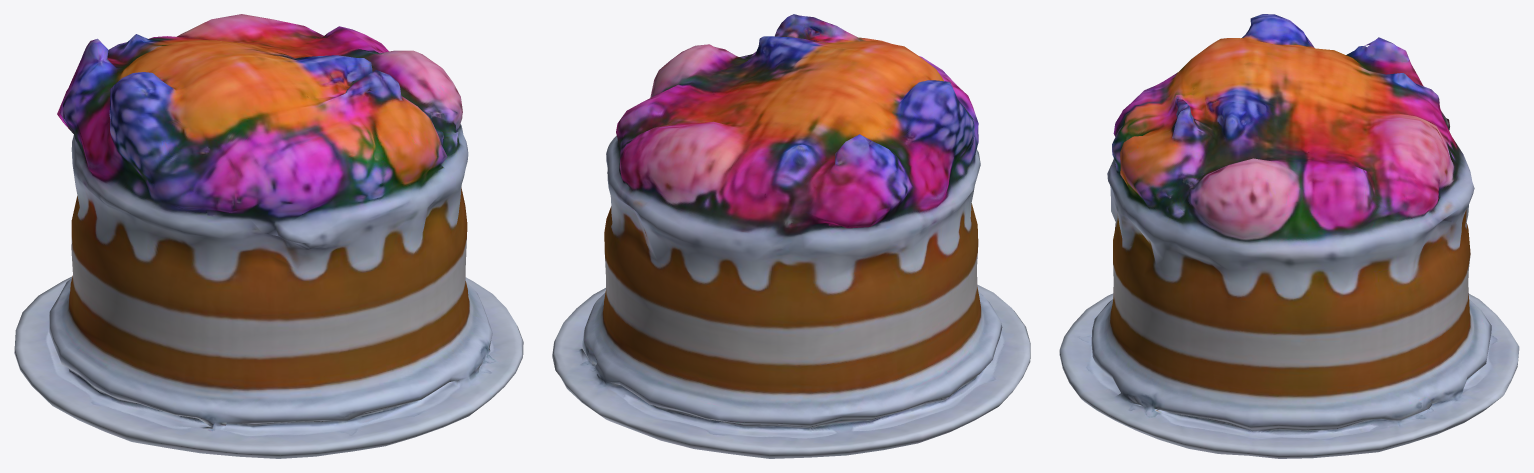
File: cake flowers.glb
The picture shows the model from 3 angles, left to right: view 1: azimuth 30°, elevation 25°; view 2: azimuth 150°, elevation 25°; view 3: azimuth 270°, elevation 25°; orthographic projection. The views are drawn at different scales.
Visible parts, largest first — view 1: mesh; view 2: mesh; view 3: mesh.
Part boxes in pixels (<box>): mesh: <box>14,14,523,458</box>; mesh: <box>552,14,1030,458</box>; mesh: <box>1059,14,1519,458</box>.
Size of the model in its own units: 0.9832 by 0.7019 by 0.9889.
1 material, 1 textured.
